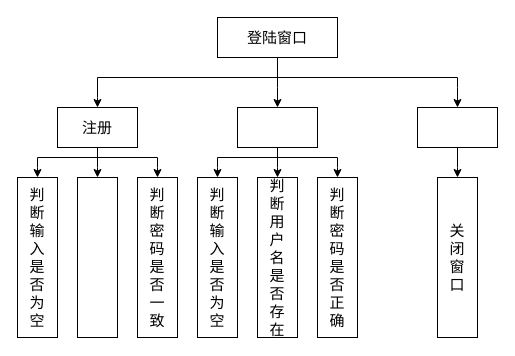
The diagram is 515 pixels wide and 356 high, and some of its shapes have lost their labels. Here are the shapes that lost their labels. From the top down, the centre of each, then its label:
At (x=277, y=127): "登陆".
At (x=457, y=127): "退出".
At (x=97, y=257): "判 断 用 户 名 是 否 重 复".
